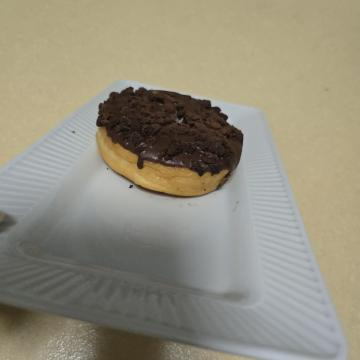doughnut: (73, 106, 214, 284)
